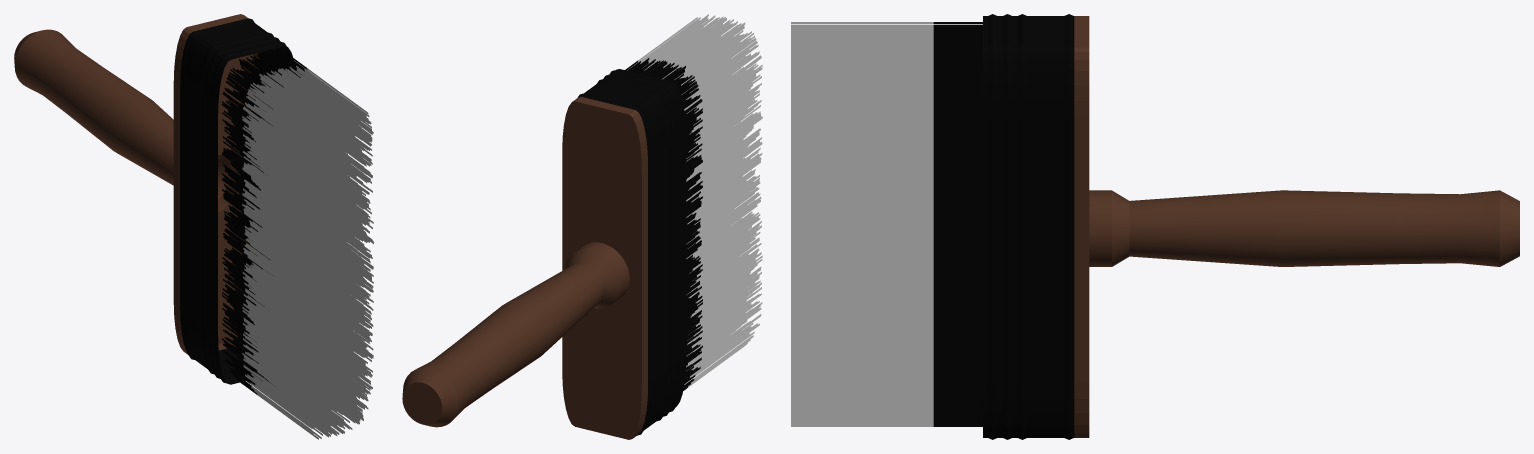
File: Brush.fbx
3 renders of one model, left to right at view 1: azimuth 30°, elevation 25°; view 2: azimuth 150°, elevation 25°; view 3: azimuth 270°, elevation 25°, orthographic. The views are drawn at different scales.
Parts seen in each view (by area): view 1: Brush; view 2: Brush; view 3: Brush.
Part boxes in pixels (bbox=[...]): Brush: bbox=[14, 14, 373, 439]; Brush: bbox=[402, 14, 762, 439]; Brush: bbox=[791, 14, 1519, 439].
Size of the model in its own units: 5.61 by 21.91 by 36.74.
